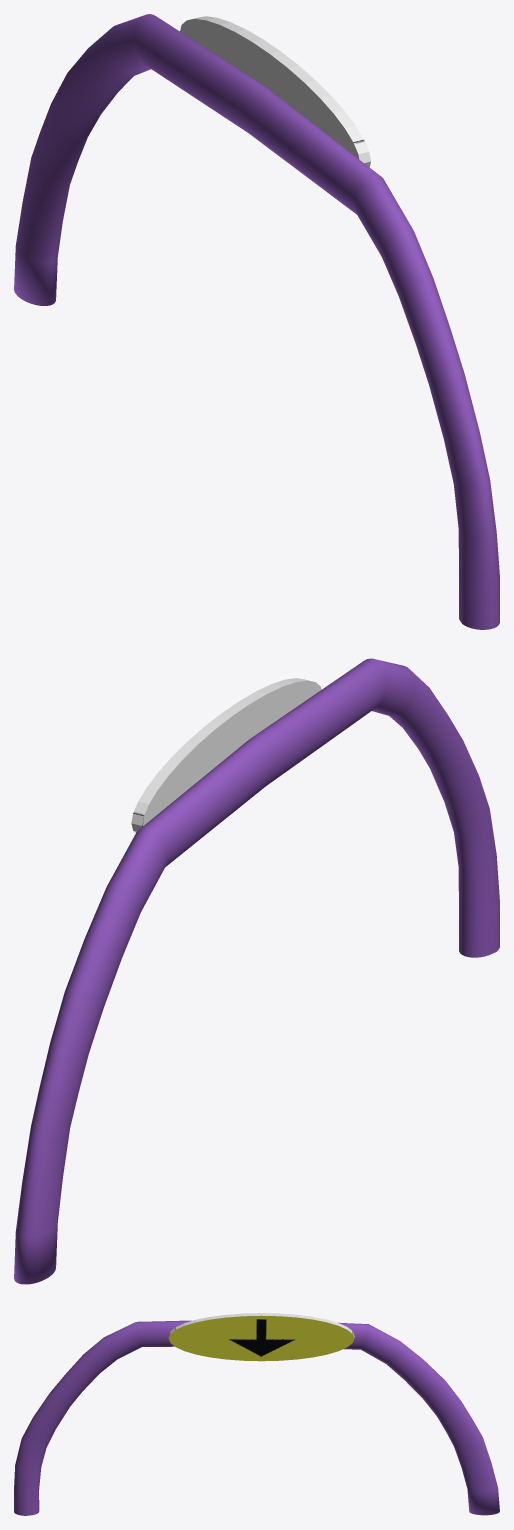
Rendered from Checkpoint.fbx.
3 renders of one model, top to bottom at view 1: azimuth 30°, elevation 25°; view 2: azimuth 150°, elevation 25°; view 3: azimuth 270°, elevation 25°, orthographic. The views are drawn at different scales.
Visible parts, largest first — view 1: Checkpoint, Sign; view 2: Checkpoint, Sign; view 3: Checkpoint, Sign.
Boxes of the visible parts, bbox=[...] form: Checkpoint: bbox=[14, 14, 499, 629]; Sign: bbox=[180, 16, 370, 167]; Checkpoint: bbox=[14, 658, 499, 1284]; Sign: bbox=[131, 678, 321, 832]; Checkpoint: bbox=[14, 1320, 499, 1515]; Sign: bbox=[168, 1313, 354, 1361].
Size of the model in its own units: 220 by 1782 by 3858.
